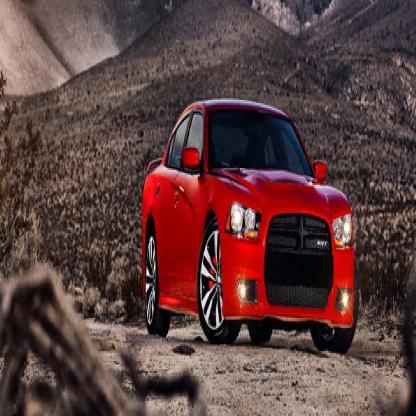Vehicle: (138, 92, 364, 361)
